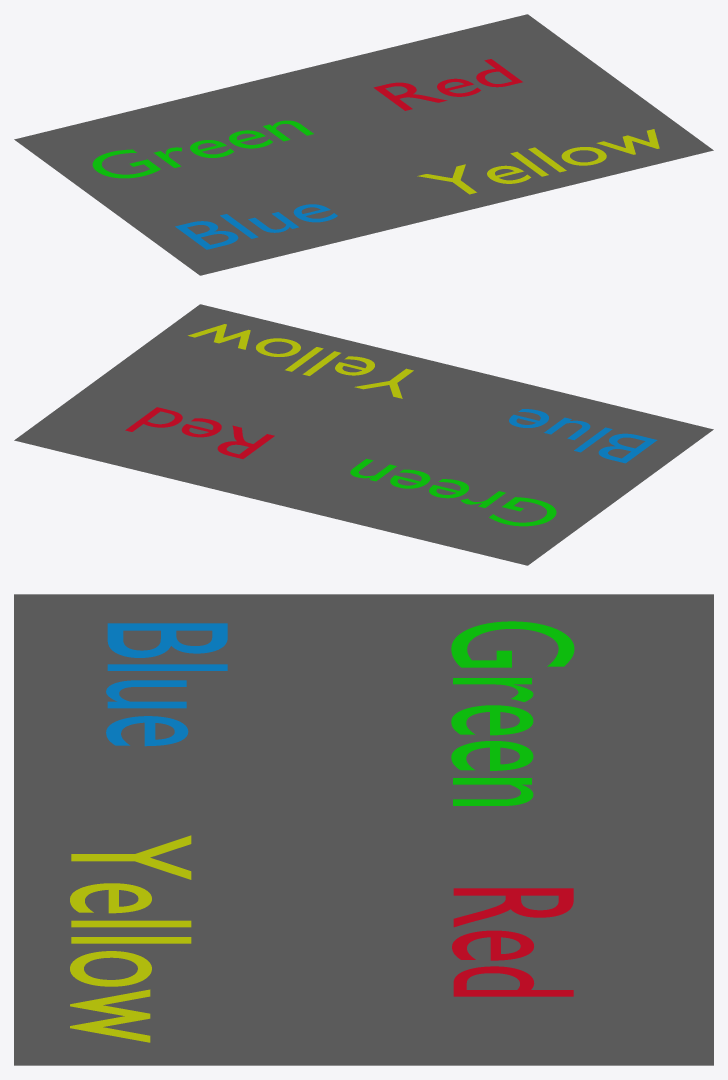
Rendered from ExportedBlenderFBXFile.fbx.
3 views of the same model, one above another, from view 1: azimuth 30°, elevation 25°; view 2: azimuth 150°, elevation 25°; view 3: azimuth 270°, elevation 25° (orthographic). The views are drawn at different scales.
Visible parts, largest first — view 1: Plane, Text_002, Text_003, Text_001, Text_000; view 2: Plane, Text_002, Text_003, Text_001, Text_000; view 3: Plane, Text_002, Text_003, Text_001, Text_000.
Part boxes in pixels (x1,y1,x2,y2): Plane: [14, 14, 713, 275]; Text_002: [417, 129, 659, 194]; Text_003: [92, 120, 313, 178]; Text_001: [175, 204, 337, 249]; Text_000: [373, 59, 522, 110]; Plane: [14, 304, 713, 565]; Text_002: [188, 324, 413, 398]; Text_003: [350, 458, 556, 526]; Text_001: [509, 409, 657, 463]; Text_000: [125, 407, 274, 458]; Plane: [14, 594, 713, 1065]; Text_002: [70, 835, 191, 1042]; Text_003: [451, 621, 574, 805]; Text_001: [106, 623, 227, 746]; Text_000: [452, 888, 573, 996].
Size of the model in its own units: 0.19 by 0.000246 by 0.1193.
